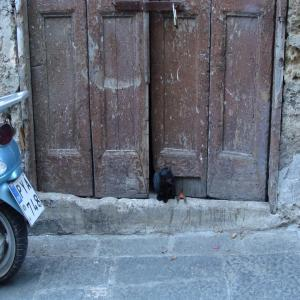Vehicle-registration-plate: (9, 172, 47, 228)
